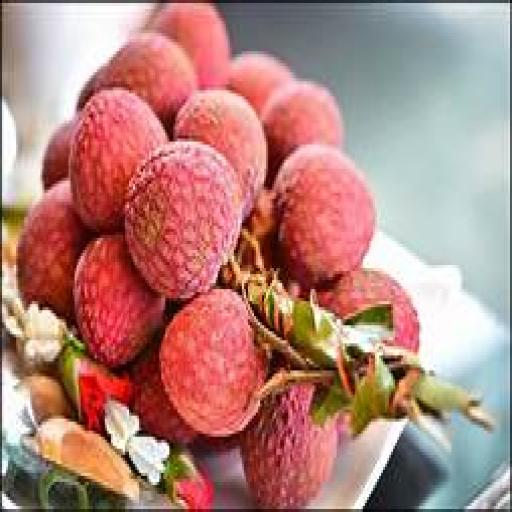lychee: (125, 142, 241, 301), (160, 290, 266, 436), (275, 145, 374, 292), (71, 88, 167, 231), (75, 235, 165, 367), (174, 91, 268, 216), (240, 386, 336, 508), (95, 34, 197, 132), (17, 181, 88, 319), (319, 269, 419, 352), (263, 82, 342, 183), (150, 4, 229, 87), (132, 344, 195, 445), (228, 52, 294, 114), (43, 118, 76, 189), (77, 67, 104, 111)
